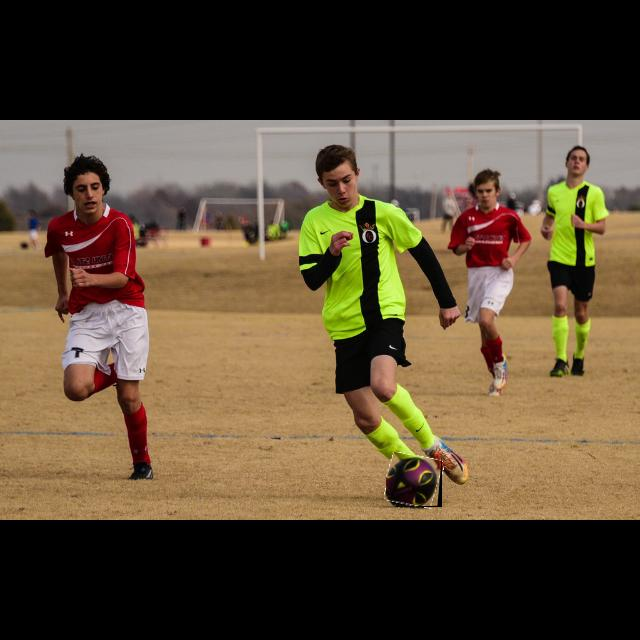Football: (386, 455, 442, 507)
